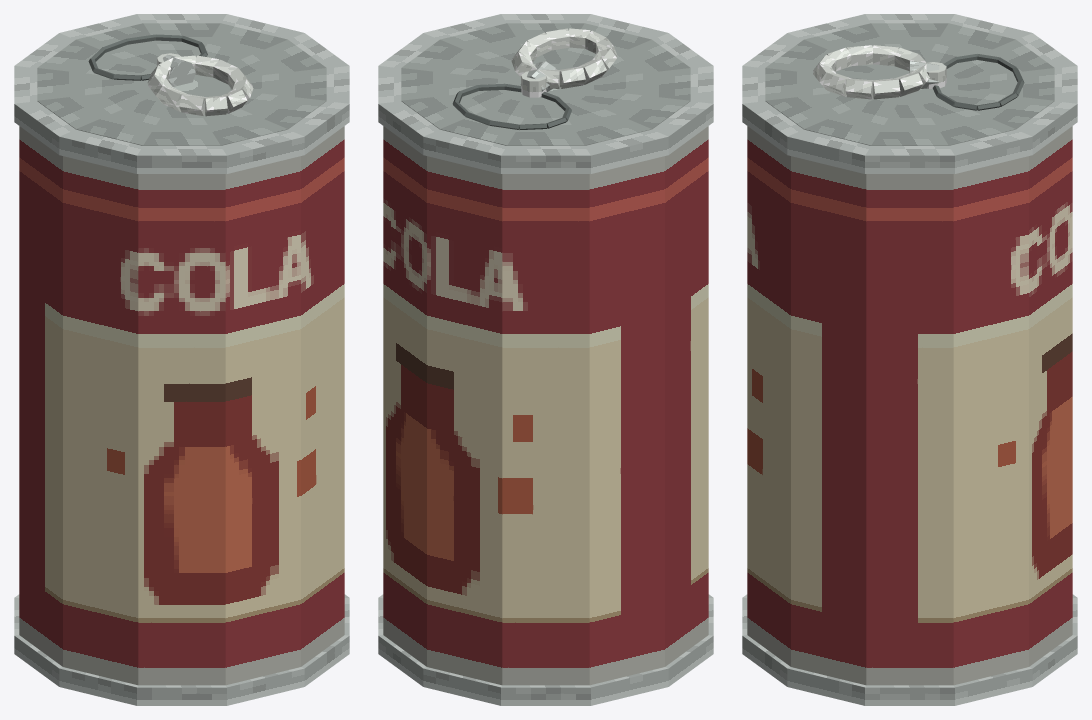
The model's file is cola.glb.
The picture shows the model from 3 angles, left to right: view 1: azimuth 30°, elevation 25°; view 2: azimuth 150°, elevation 25°; view 3: azimuth 270°, elevation 25°; orthographic projection.
Parts seen in each view (by area): view 1: block_illustrated wraparound can label, block_recessed easy-open panel, block_rolled steel top, block_rolled steel base, block_pull tab hinge; view 2: block_illustrated wraparound can label, block_recessed easy-open panel, block_rolled steel top, block_rolled steel base; view 3: block_illustrated wraparound can label, block_recessed easy-open panel, block_rolled steel top, block_rolled steel base, block_raised metal pull ring 0, block_raised metal pull ring 11.
Part boxes in pixels (left/top/right/bottom): block_illustrated wraparound can label: left=19, top=126, right=344, bottom=685; block_recessed easy-open panel: left=37, top=23, right=326, bottom=145; block_rolled steel top: left=14, top=14, right=349, bottom=173; block_rolled steel base: left=14, top=594, right=349, bottom=705; block_pull tab hinge: left=163, top=54, right=195, bottom=86; block_illustrated wraparound can label: left=383, top=126, right=708, bottom=685; block_recessed easy-open panel: left=401, top=23, right=690, bottom=145; block_rolled steel top: left=378, top=14, right=713, bottom=173; block_rolled steel base: left=378, top=594, right=713, bottom=705; block_illustrated wraparound can label: left=747, top=126, right=1072, bottom=685; block_recessed easy-open panel: left=765, top=23, right=1054, bottom=145; block_rolled steel top: left=742, top=14, right=1077, bottom=173; block_rolled steel base: left=742, top=594, right=1077, bottom=705; block_raised metal pull ring 0: left=845, top=78, right=872, bottom=99; block_raised metal pull ring 11: left=873, top=78, right=900, bottom=99.
Bounding box in the file's own units: 0.0657 × 0.1241 × 0.0657.
Materials: 1 (1 with a texture image).
